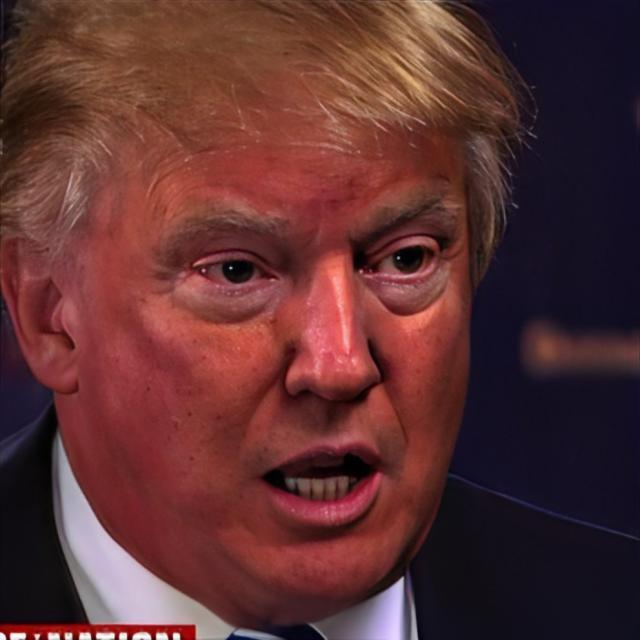anger: (86, 84, 474, 606)
